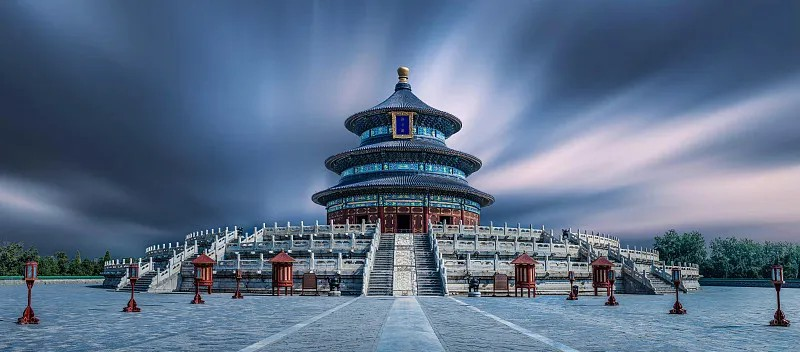Heaven: (311, 65, 496, 233)
